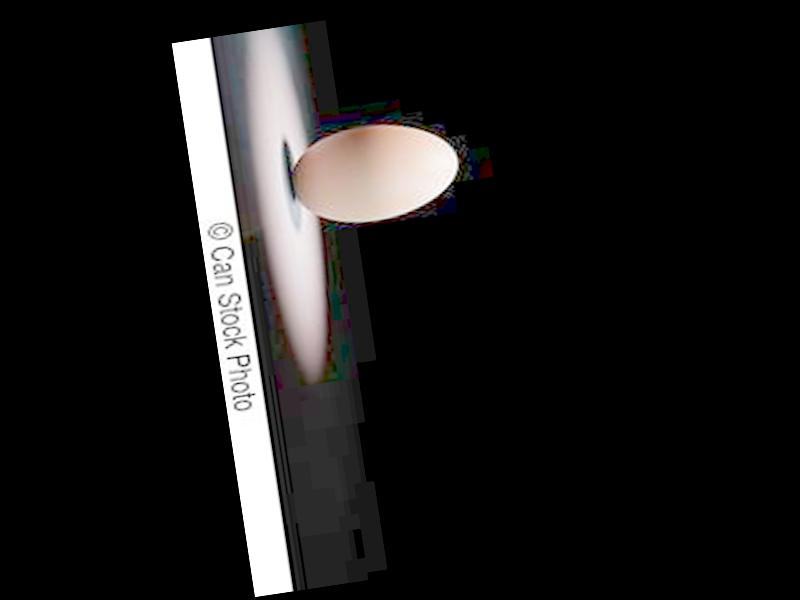Eggs: (283, 111, 463, 232)
